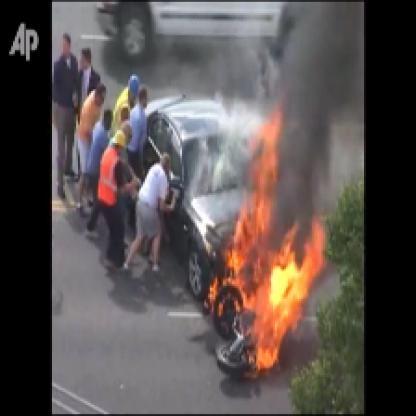Fire: (210, 147, 329, 377)
Smoke: (286, 2, 357, 178)
